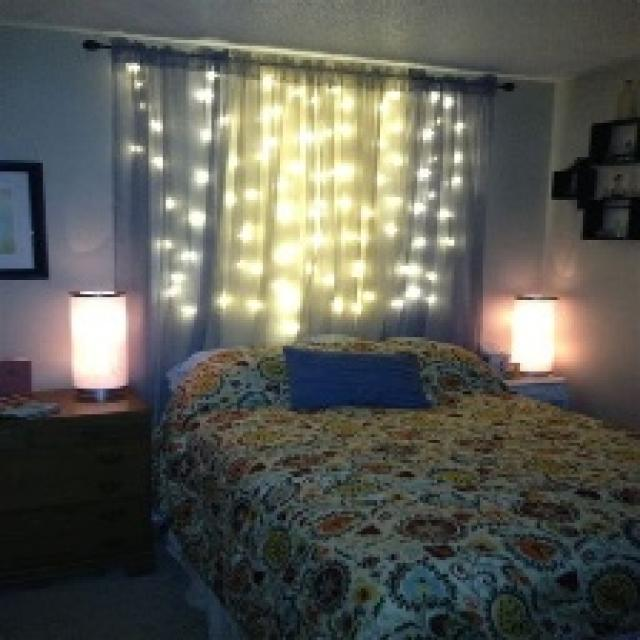Bed: (154, 332, 637, 637)
